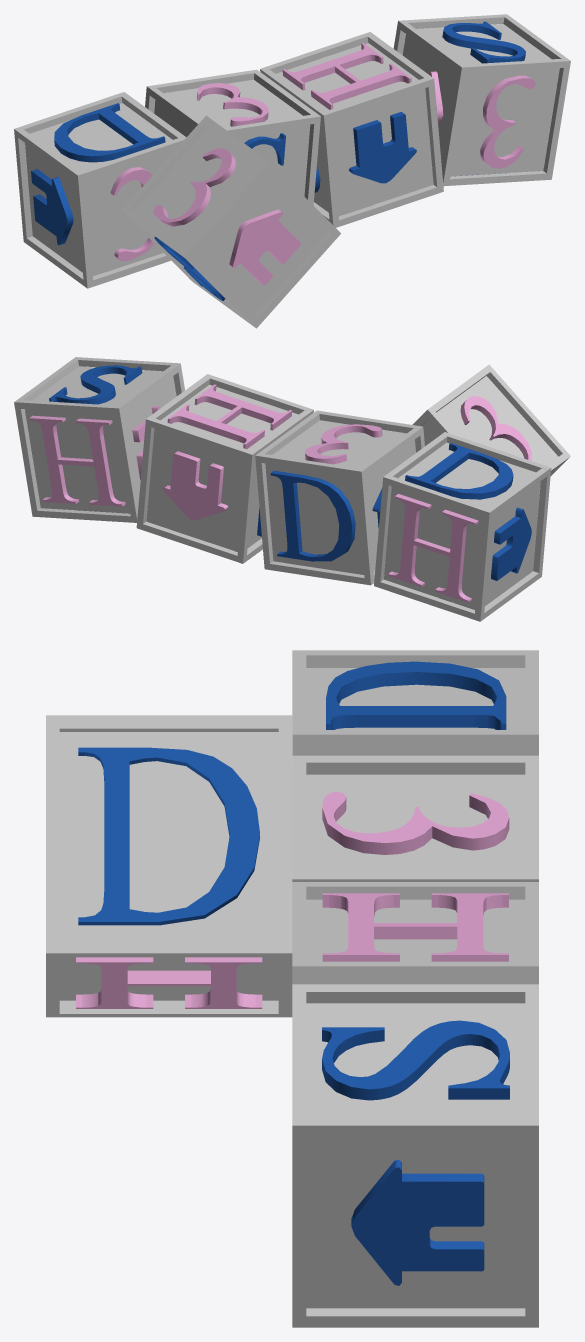
The model's file is letters.obj.
3 views of the same model, one above another, from view 1: azimuth 30°, elevation 25°; view 2: azimuth 150°, elevation 25°; view 3: azimuth 270°, elevation 25° (orthographic). The views are drawn at different scales.
Visible parts, largest first — view 1: Box076_90, Box051_59, Box013_2, Box038_40, Box025_21, Line056_42, Text012_45, Line061_93, Text002_3, Line052_4, Text013_58, Text015_63 (+39 smaller); view 2: Box013_2, Box025_21, Box051_59, Box038_40, Box076_90, Text004_7, Text016_64, Text006_22, Line057_43, Text012_45, Text002_3, Line052_4 (+36 smaller); view 3: Box051_59, Box076_90, Box025_21, Text018_91, Line058_61, Box038_40, Text013_58, Text002_3, Box013_2, Text012_45, Text020_95, Text007_25 (+26 smaller).
Part boxes in pixels (x1=…): Box076_90: x1=134, y1=127, x2=328, y2=315; Box051_59: x1=402, y1=24, x2=559, y2=176; Box013_2: x1=25, y1=103, x2=175, y2=276; Box038_40: x1=276, y1=43, x2=433, y2=216; Box025_21: x1=154, y1=79, x2=310, y2=196; Line056_42: x1=348, y1=112, x2=416, y2=183; Text012_45: x1=282, y1=42, x2=411, y2=109; Line061_93: x1=229, y1=209, x2=301, y2=285; Text002_3: x1=54, y1=103, x2=165, y2=162; Line052_4: x1=31, y1=169, x2=73, y2=245; Text013_58: x1=442, y1=21, x2=525, y2=63; Text015_63: x1=480, y1=75, x2=535, y2=168; Box013_2: x1=384, y1=442, x2=540, y2=609; Box025_21: x1=265, y1=420, x2=415, y2=574; Box051_59: x1=24, y1=366, x2=176, y2=513; Box038_40: x1=146, y1=384, x2=298, y2=552; Box076_90: x1=422, y1=376, x2=558, y2=465; Text004_7: x1=388, y1=494, x2=478, y2=602; Text016_64: x1=29, y1=415, x2=125, y2=506; Text006_22: x1=270, y1=470, x2=355, y2=561; Line057_43: x1=162, y1=451, x2=228, y2=519; Text012_45: x1=167, y1=384, x2=292, y2=449; Text002_3: x1=405, y1=443, x2=513, y2=499; Line052_4: x1=491, y1=507, x2=531, y2=580; Box051_59: x1=306, y1=1003, x2=525, y2=1308; Box076_90: x1=59, y1=732, x2=278, y2=1000; Box025_21: x1=306, y1=774, x2=525, y2=872; Text018_91: x1=78, y1=747, x2=259, y2=925; Line058_61: x1=351, y1=1159, x2=484, y2=1285; Box038_40: x1=306, y1=899, x2=525, y2=984; Text013_58: x1=322, y1=1020, x2=509, y2=1100; Text002_3: x1=326, y1=661, x2=506, y2=729; Box013_2: x1=306, y1=668, x2=525, y2=755; Text012_45: x1=322, y1=893, x2=508, y2=961; Text020_95: x1=76, y1=957, x2=262, y2=1008; Text007_25: x1=322, y1=791, x2=509, y2=854.
Size of the model in its own units: 40.09 by 12.68 by 18.
